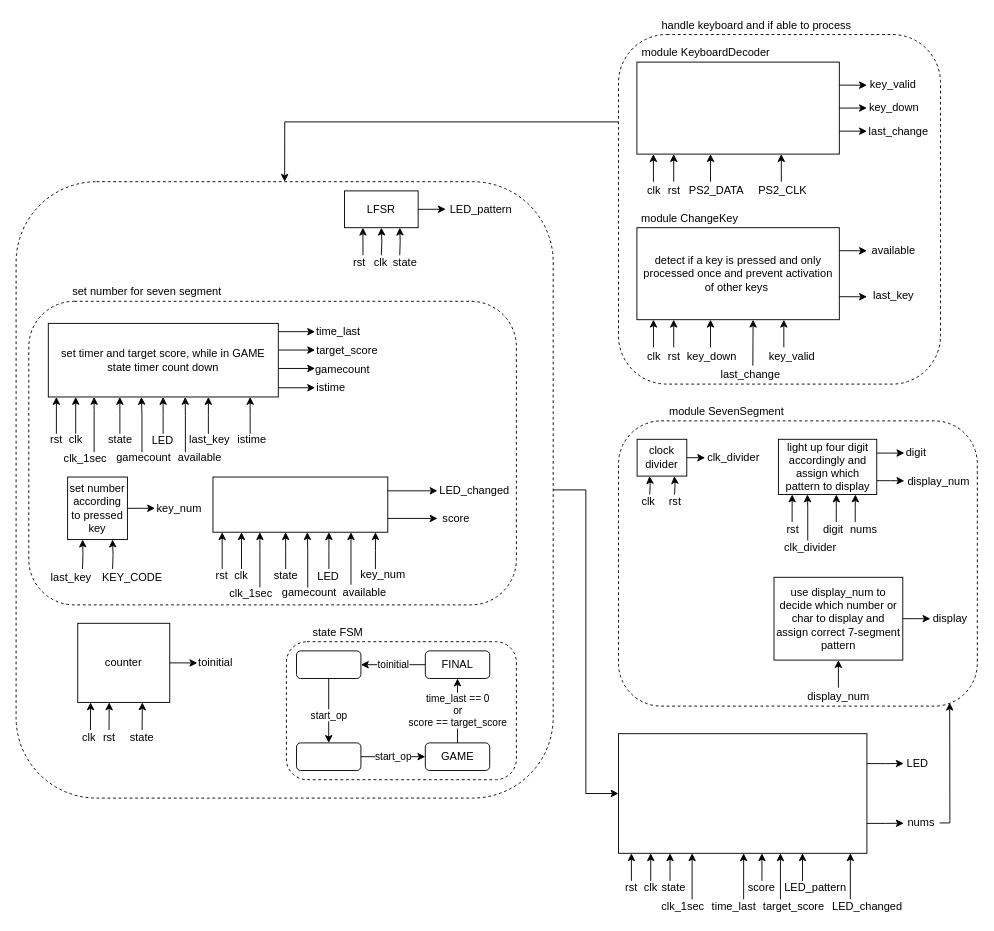
This 994x931 diagram has some shape labels left out. Each missing label, with the centre of its shape:
handle keyboard input and detect which key is activated: the point at 737,107
INITIAL: the point at 328,664
SET: the point at 328,756
set ouput LED and nums ouput on seven segment: the point at 742,793
set score and been pushed mole: the point at 300,504
